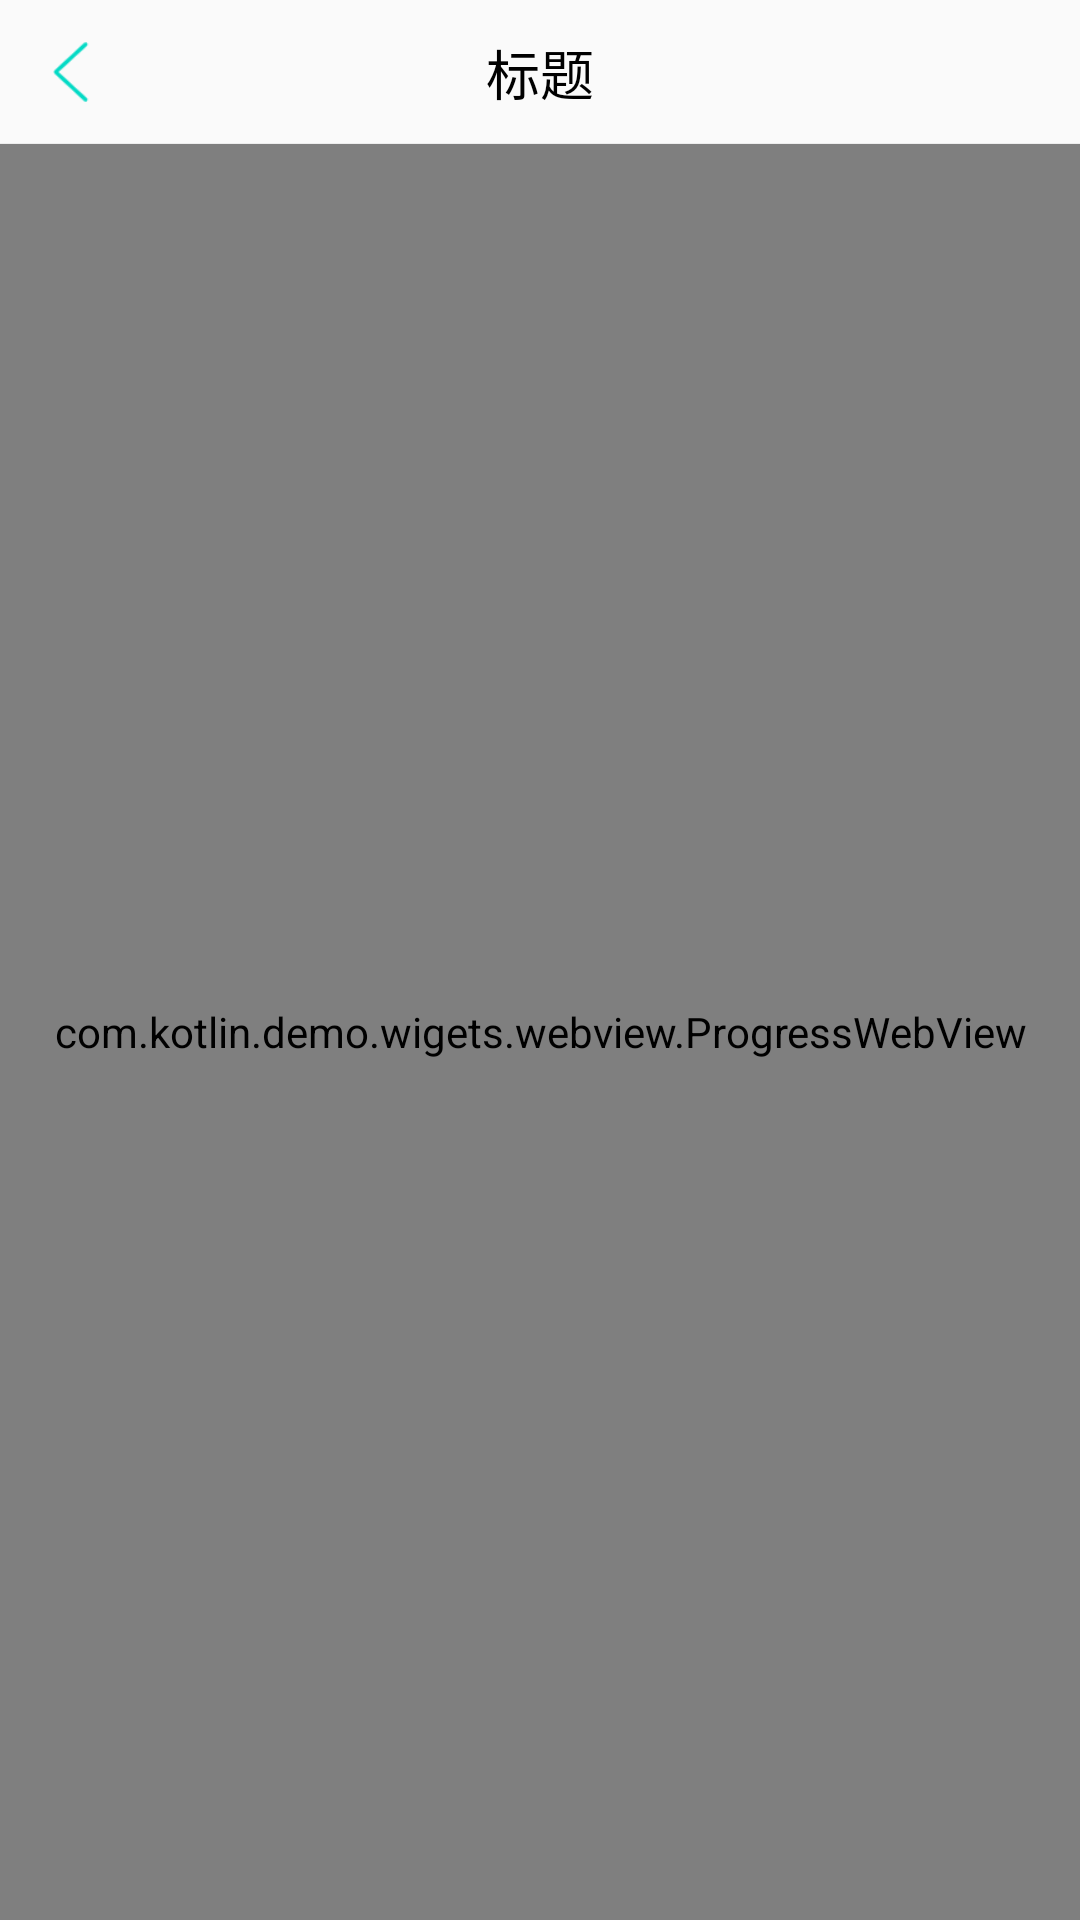

Screen size 1080px x 1920px. Icon name, then its center in pixels as point (x, y):
back: point (70, 72)
